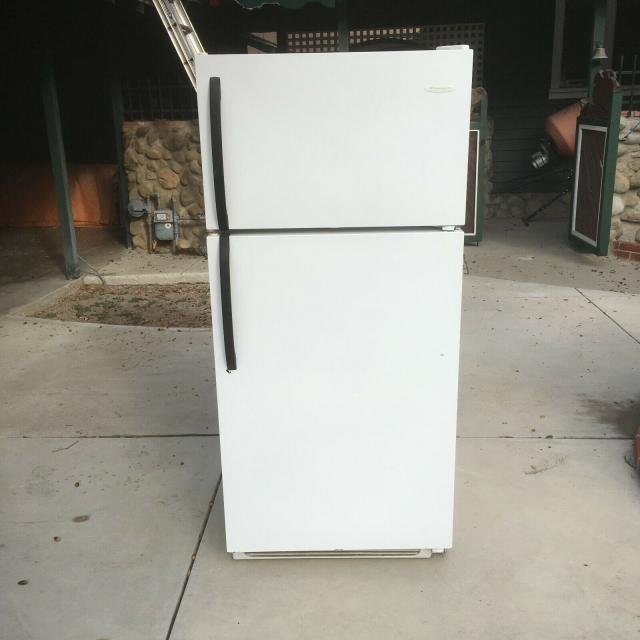refrigerator: (195, 47, 475, 552)
